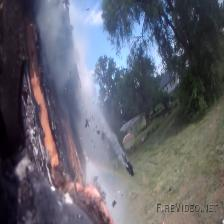smoke: (34, 0, 129, 224)
